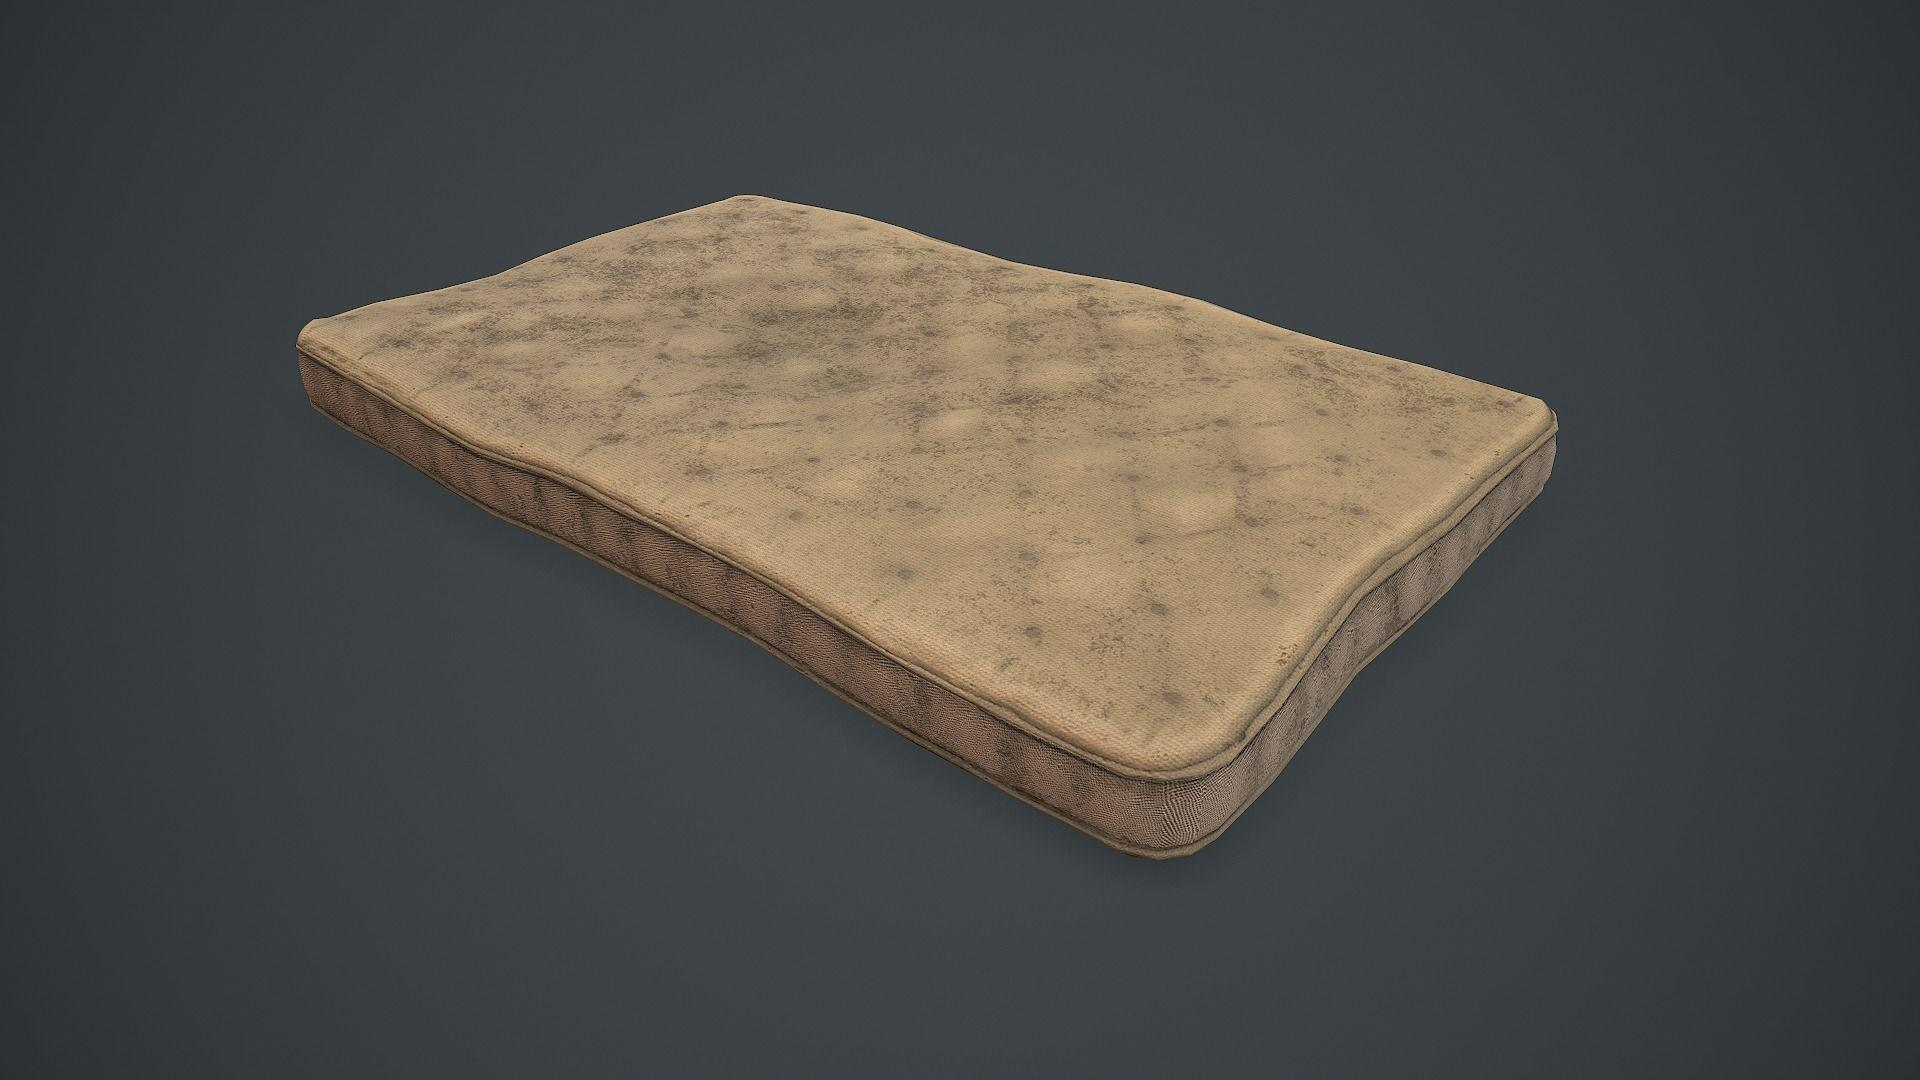Bed-Mattress: (295, 194, 1559, 856)
